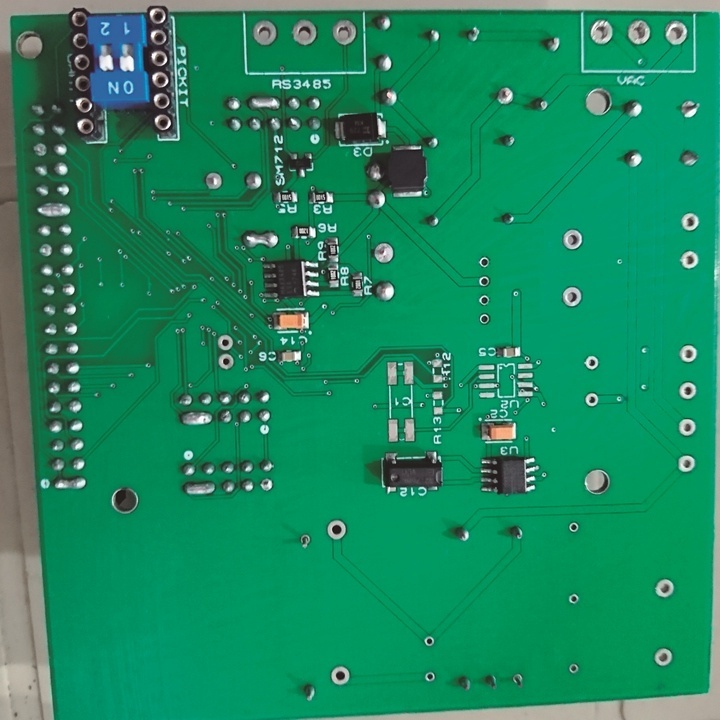F: (587, 18, 618, 50), (292, 18, 319, 51), (332, 18, 361, 48), (624, 18, 653, 48), (662, 20, 691, 49), (251, 22, 280, 50), (654, 577, 678, 603), (322, 519, 348, 543), (561, 229, 586, 253), (329, 666, 356, 688), (652, 646, 676, 670), (679, 99, 704, 122), (677, 249, 702, 272), (373, 243, 397, 266), (561, 285, 584, 309), (677, 380, 699, 404), (677, 416, 699, 440), (202, 169, 224, 191), (681, 212, 701, 236), (677, 452, 696, 477), (679, 343, 699, 366), (496, 86, 513, 106), (297, 532, 315, 550), (30, 138, 47, 157), (584, 354, 601, 373), (36, 243, 54, 260), (216, 332, 233, 350), (218, 354, 235, 372), (477, 275, 493, 291), (510, 672, 526, 688), (586, 392, 601, 409), (475, 257, 493, 271), (260, 476, 273, 495), (64, 321, 80, 336), (61, 283, 76, 298), (476, 293, 490, 308), (477, 312, 491, 326), (426, 671, 438, 687), (570, 592, 582, 607), (424, 636, 437, 649), (568, 523, 582, 535), (569, 663, 581, 677)
P: (240, 229, 283, 251), (177, 407, 216, 430), (181, 478, 219, 498), (50, 475, 89, 494), (245, 95, 282, 114), (33, 202, 73, 219)
